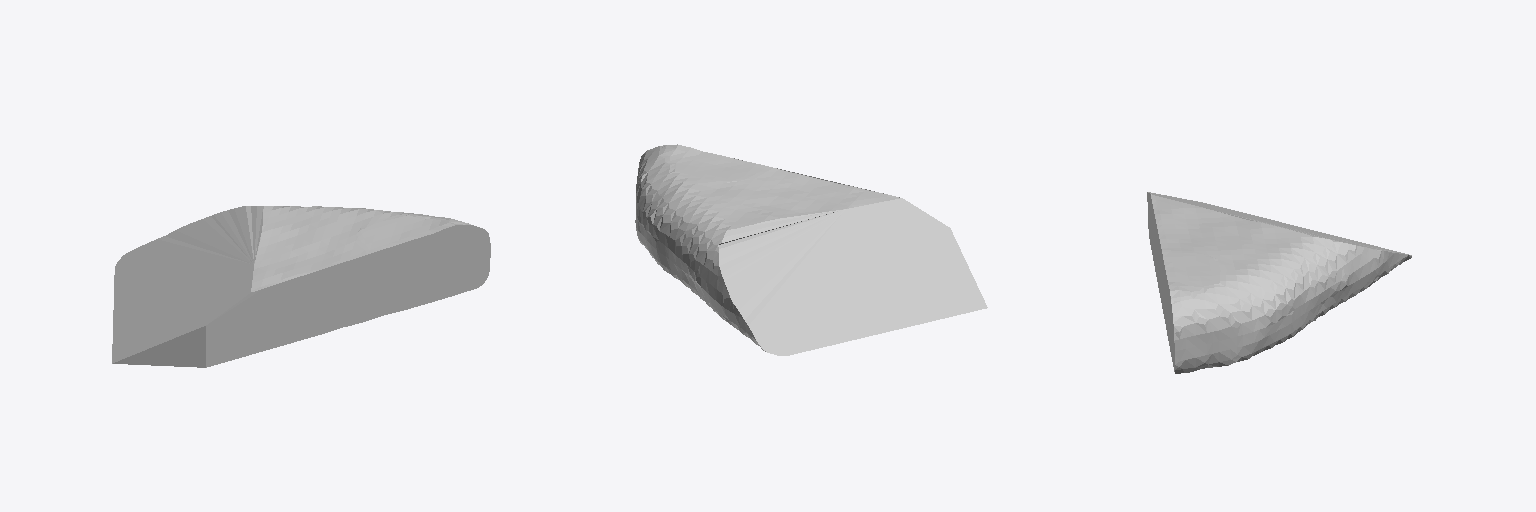
The model's file is low_cell_011.obj.
The picture shows the model from 3 angles: view 1: azimuth 30°, elevation 25°; view 2: azimuth 150°, elevation 25°; view 3: azimuth 270°, elevation 25°; orthographic projection.
Parts seen in each view (by area): view 1: low_cell.011_low_cell.010; view 2: low_cell.011_low_cell.010; view 3: low_cell.011_low_cell.010.
Boxes of the visible parts, x1,y1,x2,y2 form: low_cell.011_low_cell.010: [112, 206, 490, 367]; low_cell.011_low_cell.010: [635, 144, 987, 355]; low_cell.011_low_cell.010: [1147, 192, 1411, 373].
Bounding box in the file's own units: 0.6915 × 0.13 × 0.437.